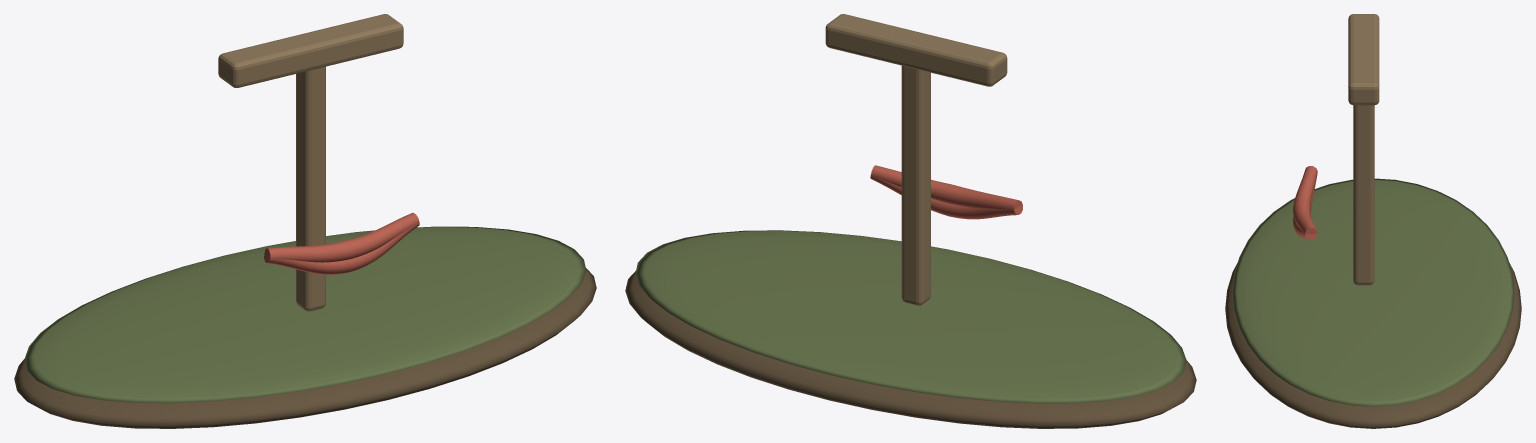
Rendered from permission.glb.
The picture shows the model from 3 angles, left to right: view 1: azimuth 30°, elevation 25°; view 2: azimuth 150°, elevation 25°; view 3: azimuth 270°, elevation 25°; orthographic projection. The views are drawn at different scales.
Parts seen in each view (by area): view 1: permission_surface_01, permission_surface_00, permission_surface_02, permission_surface_03; view 2: permission_surface_01, permission_surface_00, permission_surface_02, permission_surface_03; view 3: permission_surface_01, permission_surface_00, permission_surface_02, permission_surface_03.
Part boxes in pixels (x1=…): permission_surface_01: x1=24, y1=226, x2=586, y2=403; permission_surface_00: x1=14, y1=268, x2=596, y2=428; permission_surface_02: x1=218, y1=14, x2=403, y2=311; permission_surface_03: x1=264, y1=212, x2=419, y2=274; permission_surface_01: x1=635, y1=230, x2=1186, y2=403; permission_surface_00: x1=625, y1=271, x2=1196, y2=428; permission_surface_02: x1=825, y1=14, x2=1007, y2=305; permission_surface_03: x1=870, y1=165, x2=1022, y2=219; permission_surface_01: x1=1232, y1=178, x2=1514, y2=406; permission_surface_00: x1=1225, y1=262, x2=1521, y2=428; permission_surface_02: x1=1348, y1=14, x2=1379, y2=285; permission_surface_03: x1=1292, y1=166, x2=1317, y2=240.
Size of the model in its own units: 4.68 by 2.6 by 2.48.
